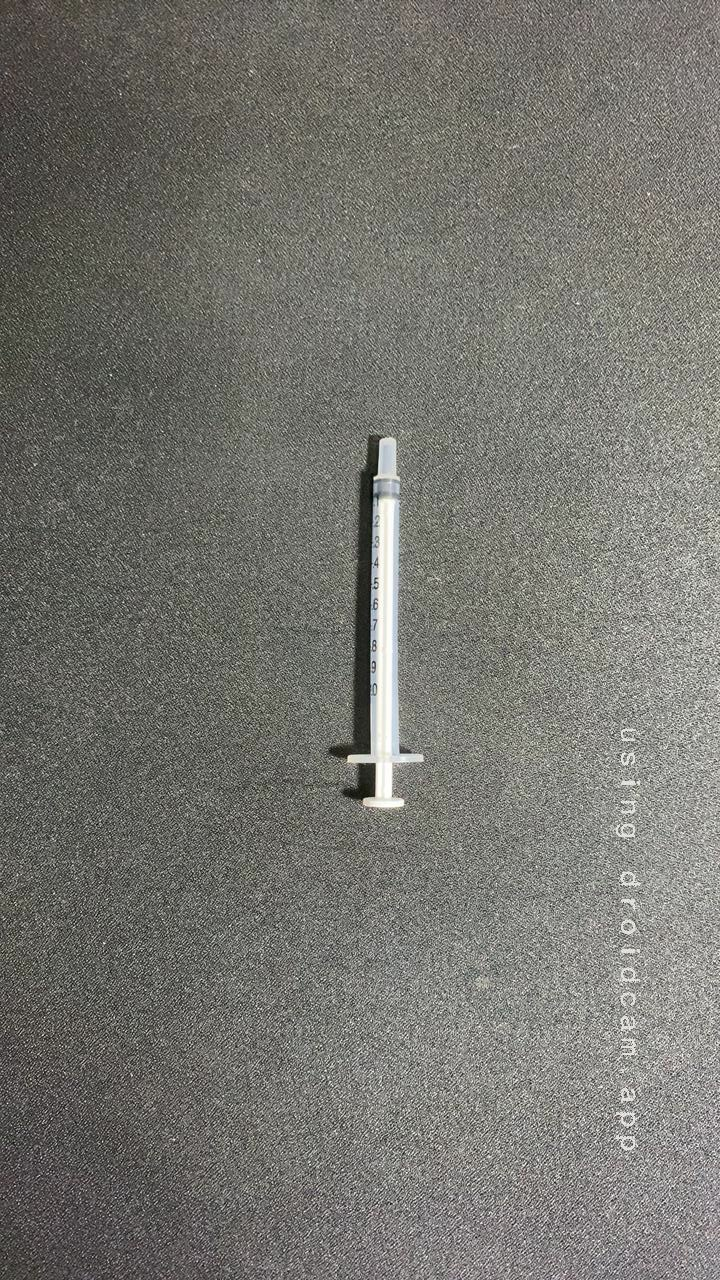syringe: (304, 440, 441, 819)
